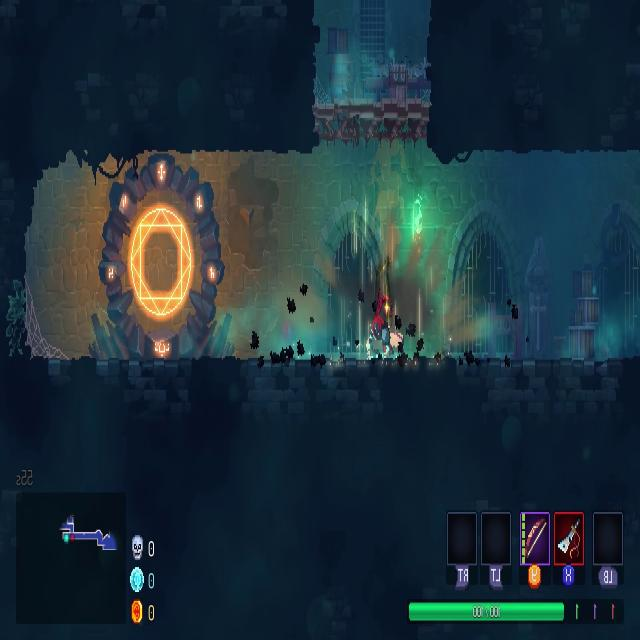agents: (364, 296, 401, 359)
